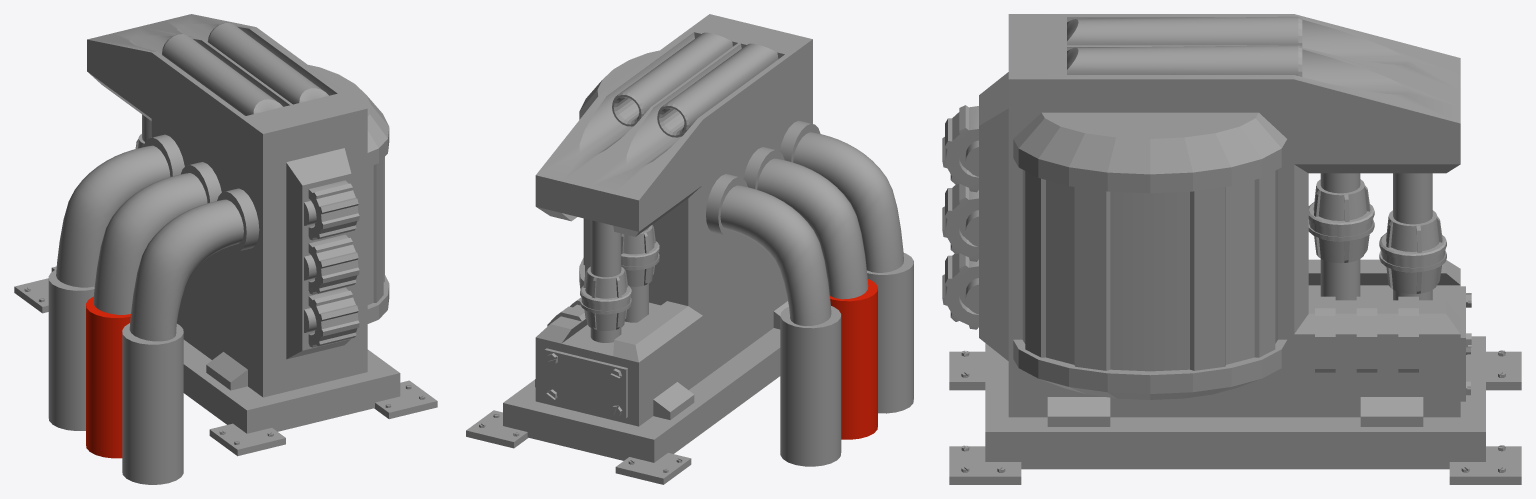
The model's file is factory.glb.
3 views of the same model, side by side, from view 1: azimuth 30°, elevation 25°; view 2: azimuth 150°, elevation 25°; view 3: azimuth 270°, elevation 25° (orthographic). The views are drawn at different scales.
Parts seen in each view (by area): view 1: pCube2, pCube3, pasted__pCylinder4_lambert1_0.002, pasted__pCylinder2_lambert1_0.001, pCylinder2, pasted__pCylinder2, pCylinder4, pasted__pCylinder4_lambert1_0.001, pCylinder3, pCylinder9, pasted__pCylinder9, group26 (+7 smaller); view 2: pCube2, pCube3, pCylinder4, pCylinder2, pasted__pCylinder2, pasted__pCylinder2_lambert1_0.001, pasted__pCylinder4_lambert1_0.001, pasted__pCylinder4_lambert1_0.002, pCylinder9, pasted__pCylinder9, pasted__pCylinder5_lambert1_0.001, pasted__pasted__pasted__pCylinder5 (+10 smaller); view 3: pCube2, pCylinder3, pCube3, pasted__pCylinder9, pCylinder9, group26, pasted__pasted__pasted__pCylinder5, pasted__pasted__pCylinder5, group21, pasted__group21, pCylinder5, pasted__pCylinder5_lambert1_0.001 (+5 smaller).
Part boxes in pixels (bbox=[...]): pCube2: bbox=[87, 14, 367, 397]; pCube3: bbox=[51, 266, 400, 433]; pasted__pCylinder4_lambert1_0.002: bbox=[122, 323, 183, 484]; pasted__pCylinder2_lambert1_0.001: bbox=[129, 199, 243, 341]; pCylinder2: bbox=[56, 145, 170, 287]; pasted__pCylinder2: bbox=[93, 173, 207, 314]; pCylinder4: bbox=[48, 269, 94, 430]; pasted__pCylinder4_lambert1_0.001: bbox=[86, 296, 130, 458]; pCylinder3: bbox=[308, 65, 389, 323]; pCylinder9: bbox=[162, 34, 282, 115]; pasted__pCylinder9: bbox=[207, 22, 328, 104]; group26: bbox=[209, 380, 437, 456]; pCube2: bbox=[535, 14, 812, 426]; pCube3: bbox=[503, 301, 788, 462]; pCylinder4: bbox=[780, 306, 841, 466]; pCylinder2: bbox=[720, 185, 831, 326]; pasted__pCylinder2: bbox=[757, 158, 868, 299]; pasted__pCylinder2_lambert1_0.001: bbox=[793, 132, 903, 272]; pasted__pCylinder4_lambert1_0.001: bbox=[830, 279, 877, 439]; pasted__pCylinder4_lambert1_0.002: bbox=[867, 253, 913, 413]; pCylinder9: bbox=[657, 43, 778, 137]; pasted__pCylinder9: bbox=[612, 32, 732, 126]; pasted__pCylinder5_lambert1_0.001: bbox=[590, 220, 621, 342]; pasted__pasted__pasted__pCylinder5: bbox=[583, 266, 627, 330]; pCube2: bbox=[979, 14, 1465, 417]; pCylinder3: bbox=[1013, 112, 1287, 399]; pCube3: bbox=[985, 336, 1485, 469]; pasted__pCylinder9: bbox=[1067, 45, 1302, 76]; pCylinder9: bbox=[1067, 16, 1302, 46]; group26: bbox=[949, 350, 1021, 484]; pasted__pasted__pasted__pCylinder5: bbox=[1385, 210, 1442, 294]; pasted__pasted__pCylinder5: bbox=[1313, 179, 1370, 263]; group21: bbox=[942, 105, 978, 192]; pasted__group21: bbox=[942, 253, 978, 329]; pCylinder5: bbox=[1320, 173, 1360, 300]; pasted__pCylinder5_lambert1_0.001: bbox=[1393, 173, 1432, 300].
Bounding box in the file's own units: 12.38 × 14.42 × 17.36.
